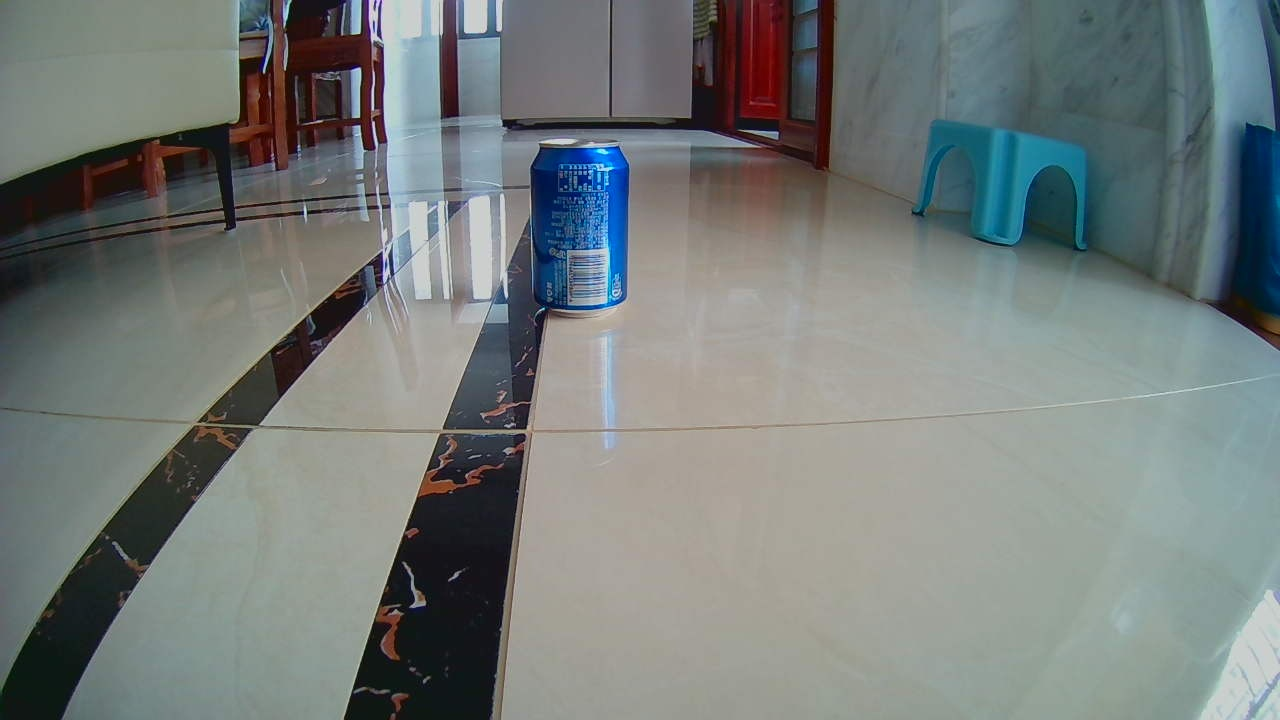pessi: (529, 137, 625, 320)
